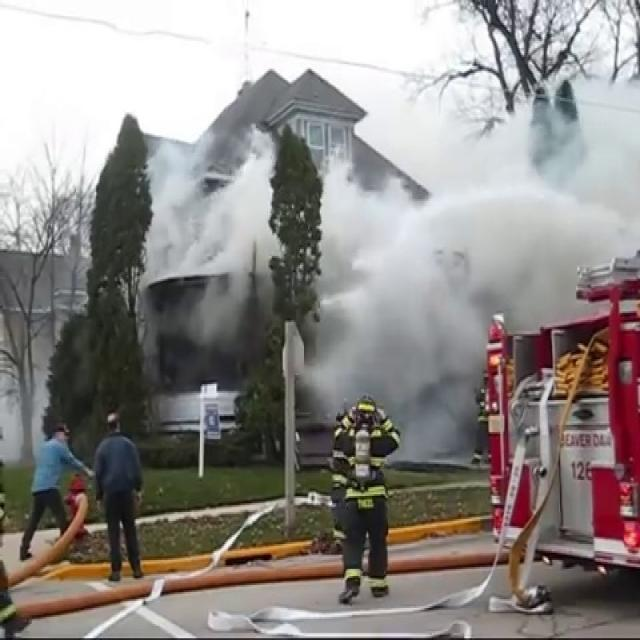Smoke: (308, 1, 638, 437), (133, 120, 275, 366)
